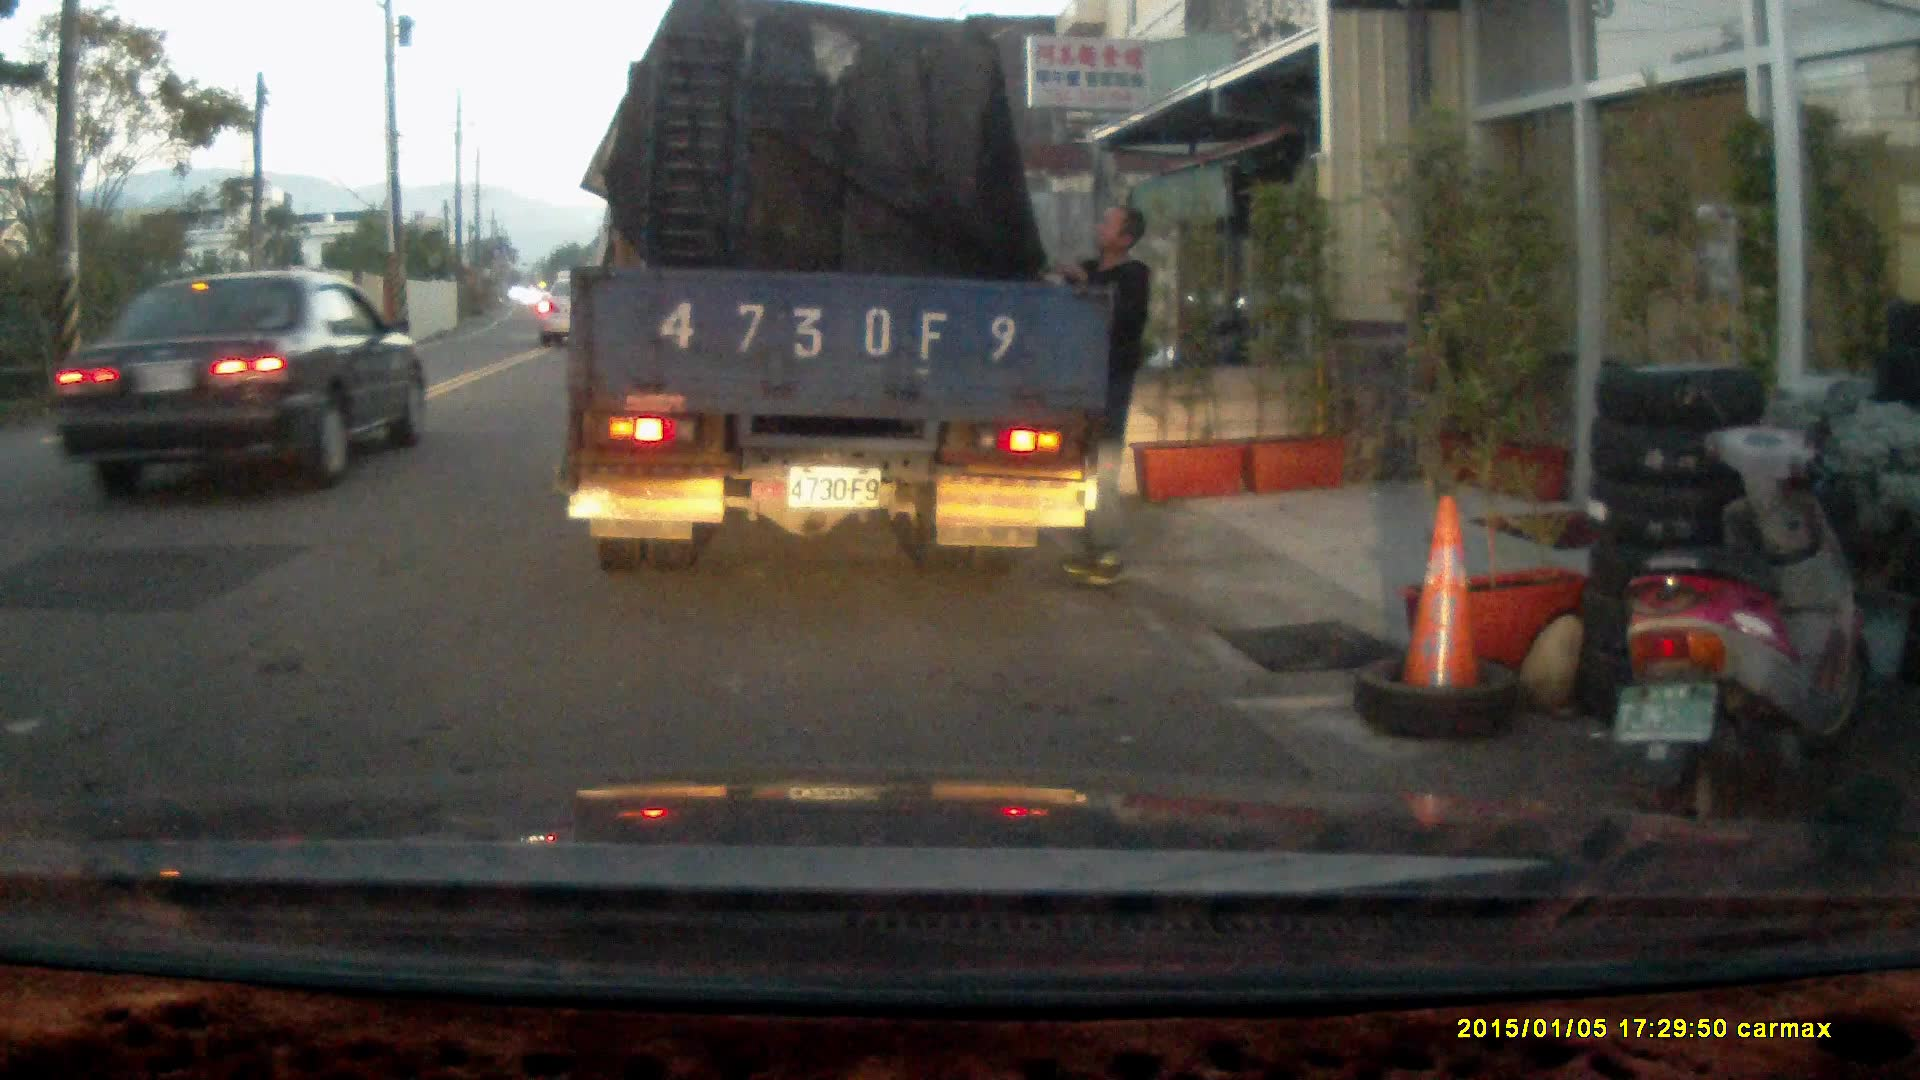pedestrian: (1038, 200, 1152, 587)
vehicle: (567, 23, 1100, 572), (27, 270, 415, 501)
